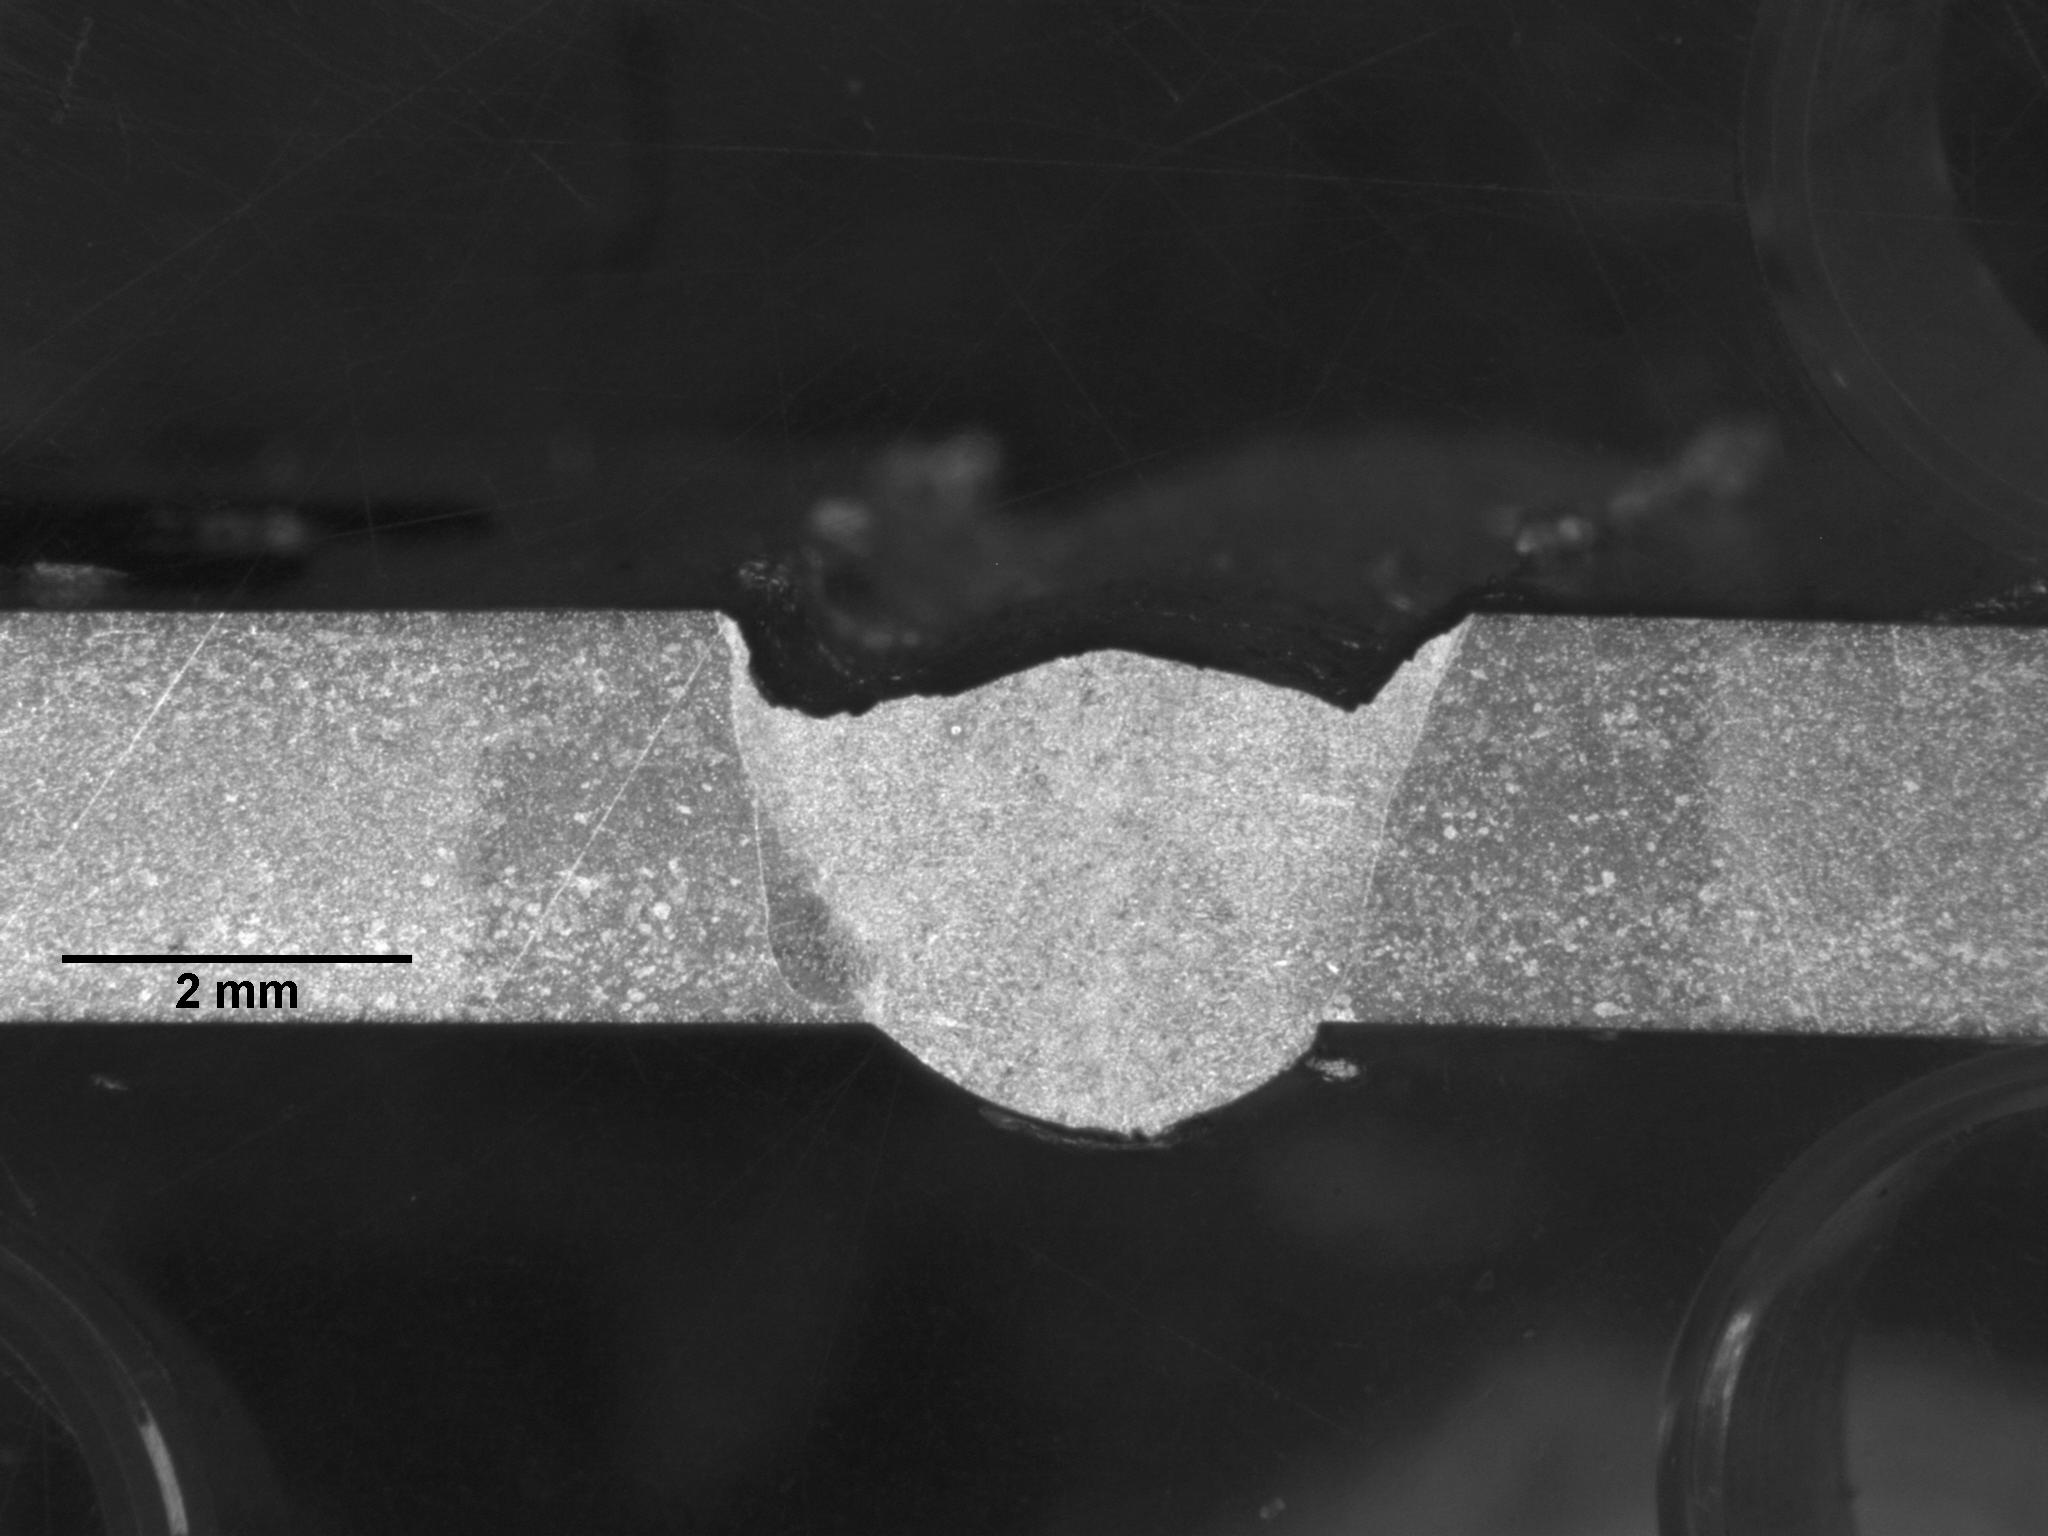Scale-bar: (53, 942, 423, 1013)
